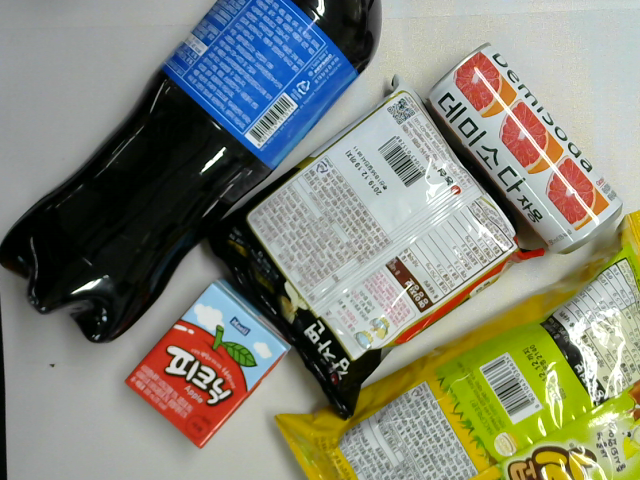Banana_Kick: (270, 205, 640, 480)
Demisoda_Grapefruit_Can_250ml: (424, 39, 625, 254)
Pepsi_Cola_1.5L: (1, 1, 385, 345)
Picnic_Apple: (124, 278, 295, 448)
Potato: (200, 71, 548, 422)
